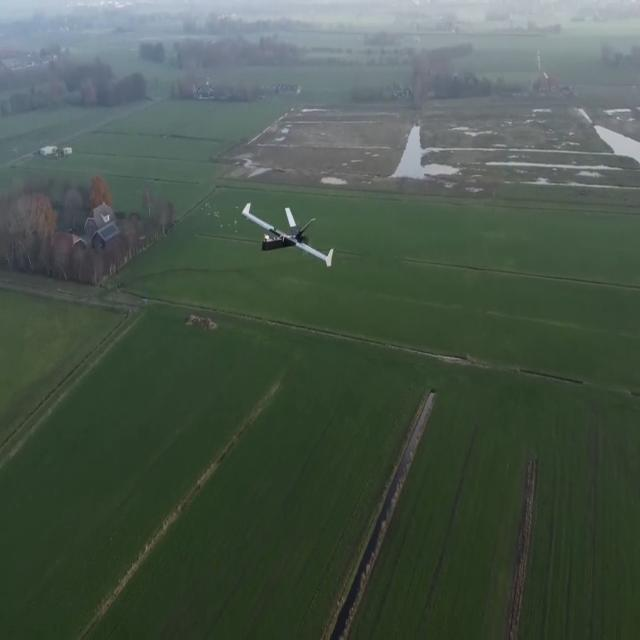iha: (272, 231, 303, 236)
